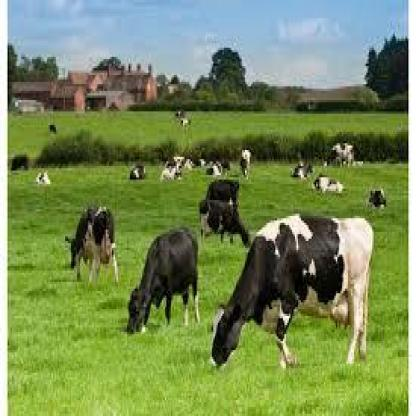cow: (207, 213, 374, 370), (126, 226, 200, 335), (64, 203, 120, 290), (199, 199, 253, 249), (205, 178, 240, 208), (324, 142, 356, 169), (312, 174, 345, 197), (160, 160, 183, 183), (289, 160, 313, 181), (368, 188, 387, 212), (206, 159, 224, 177), (241, 148, 251, 180), (130, 162, 147, 178), (186, 157, 206, 170), (36, 170, 50, 186)
